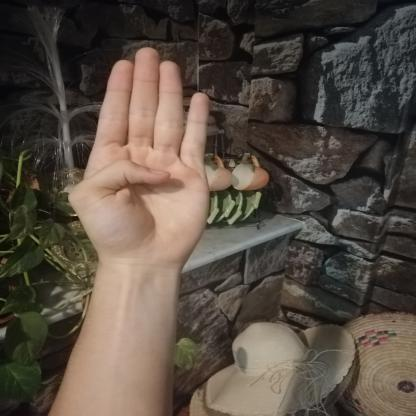KAAF: (48, 35, 238, 280)
